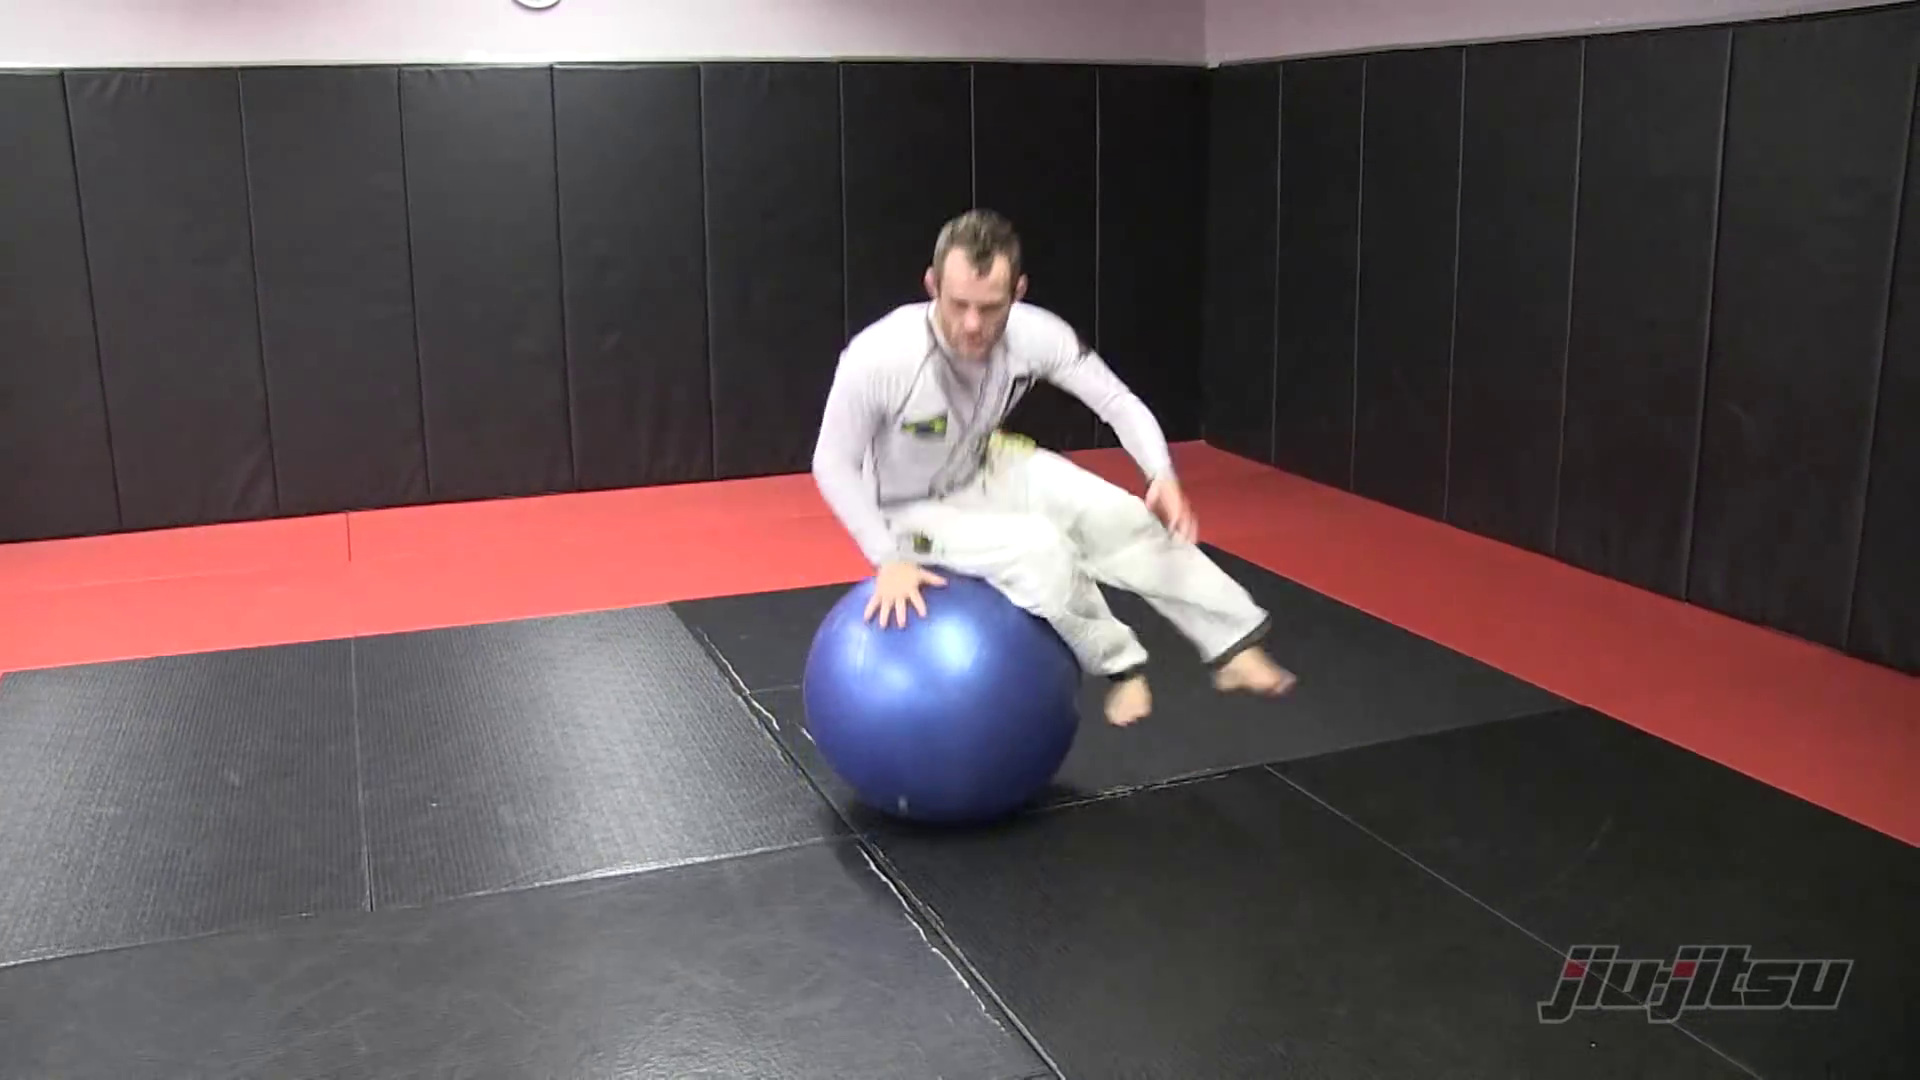yogaball: (781, 551, 1106, 847)
